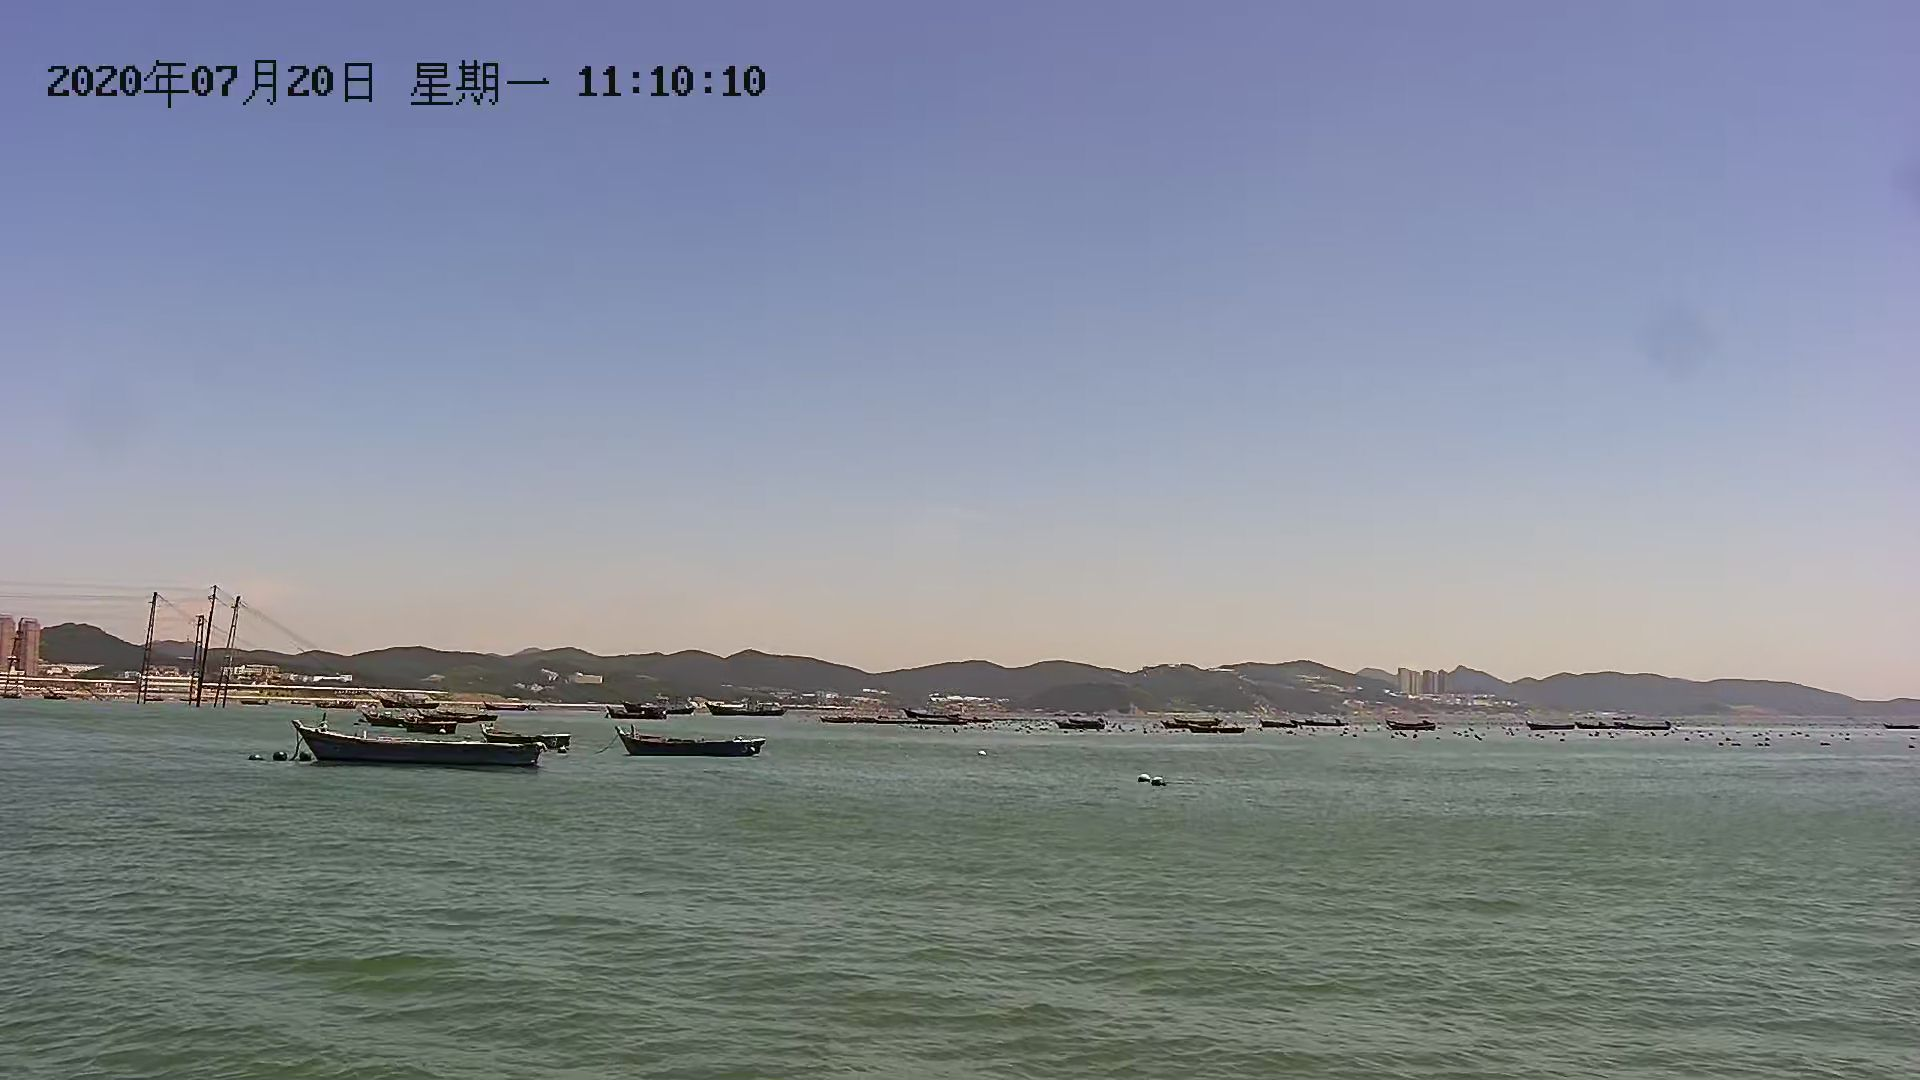ball: (1126, 773, 1171, 791)
boat: (290, 715, 554, 770), (608, 731, 777, 762), (367, 695, 484, 735), (1054, 713, 1112, 741)
